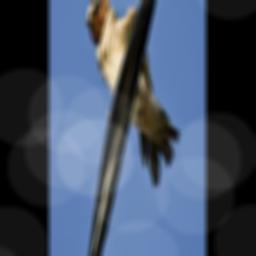Swallow: (85, 0, 180, 190)
